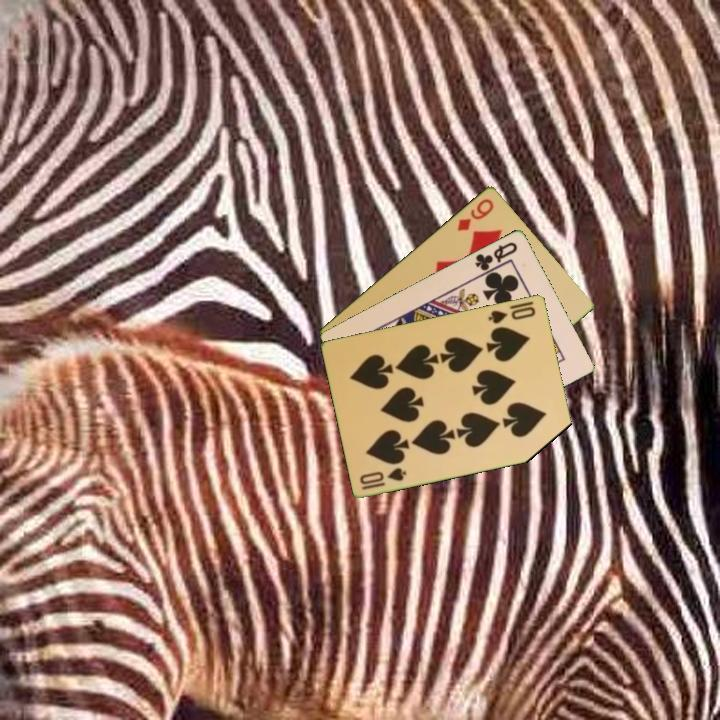10s: (356, 464, 410, 492), (485, 302, 539, 326)
9d: (454, 194, 497, 234)
Qc: (471, 238, 520, 278)
